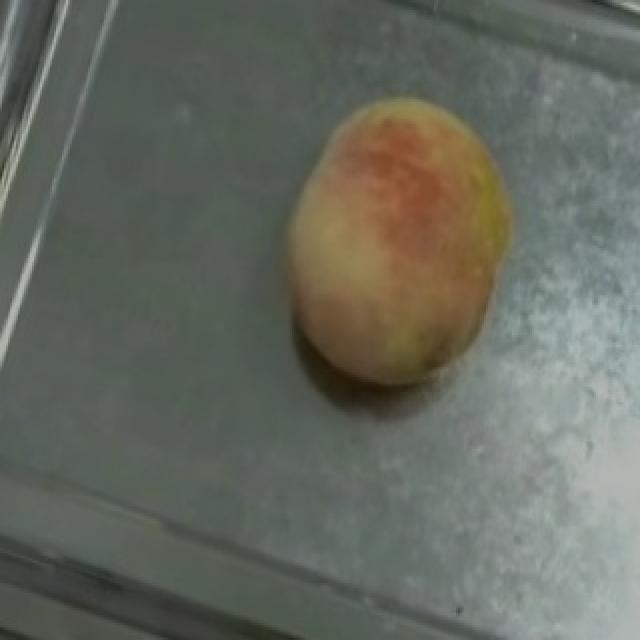Fruit: (234, 55, 560, 429)
